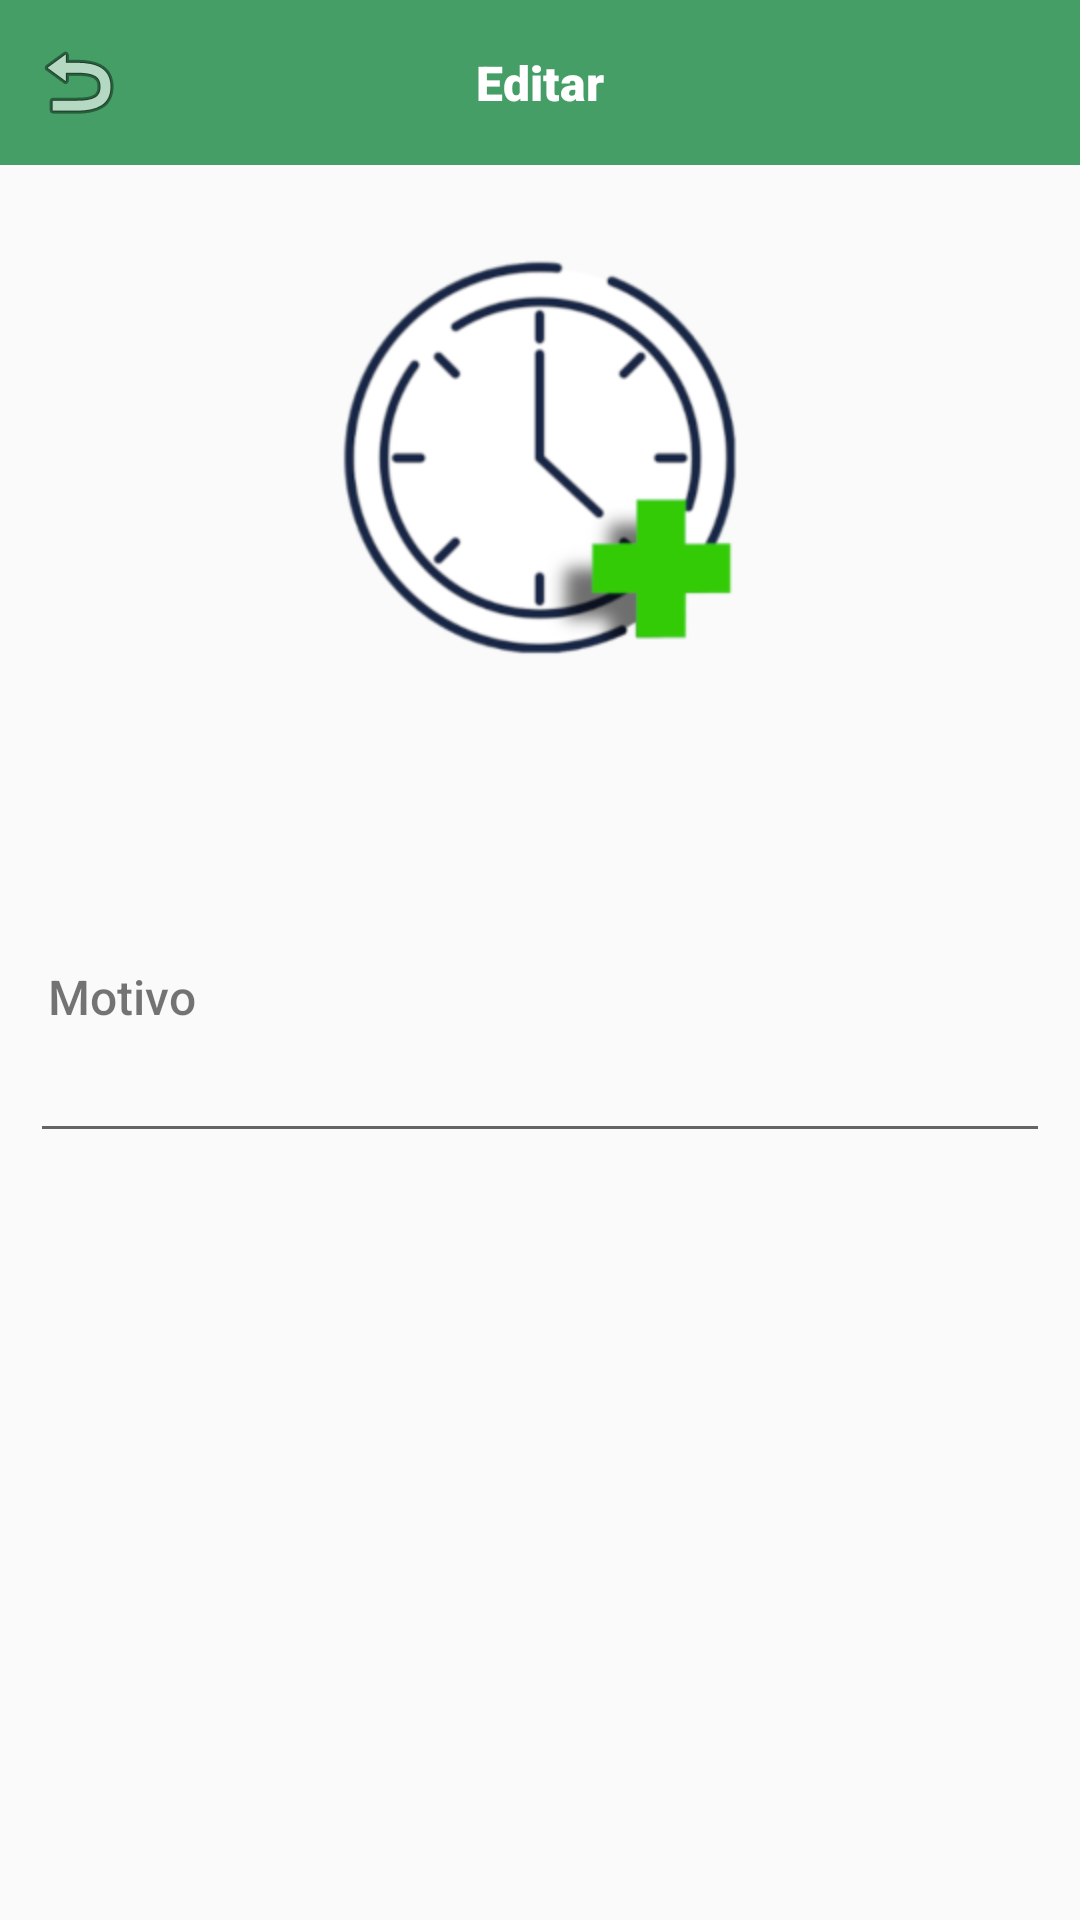

Where to tap for icons on this 1080 x 1920 app screen, as [x,y]:
revert: [79,83]
